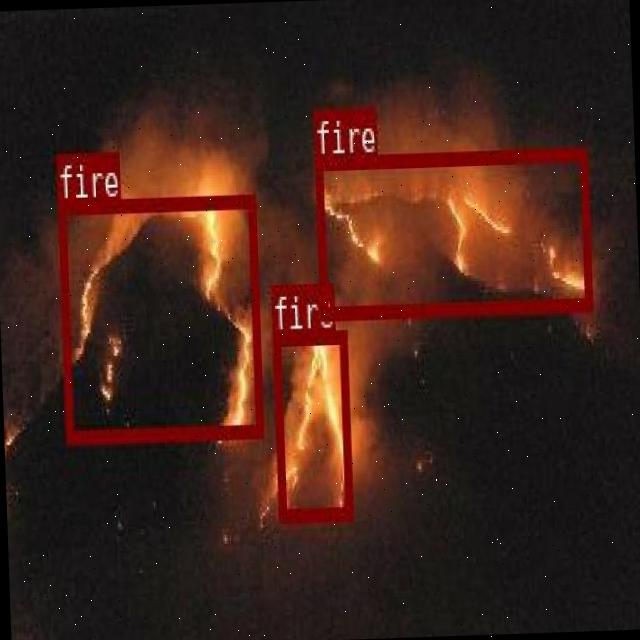fire: (57, 192, 261, 442), (314, 146, 590, 317), (271, 328, 351, 518)
